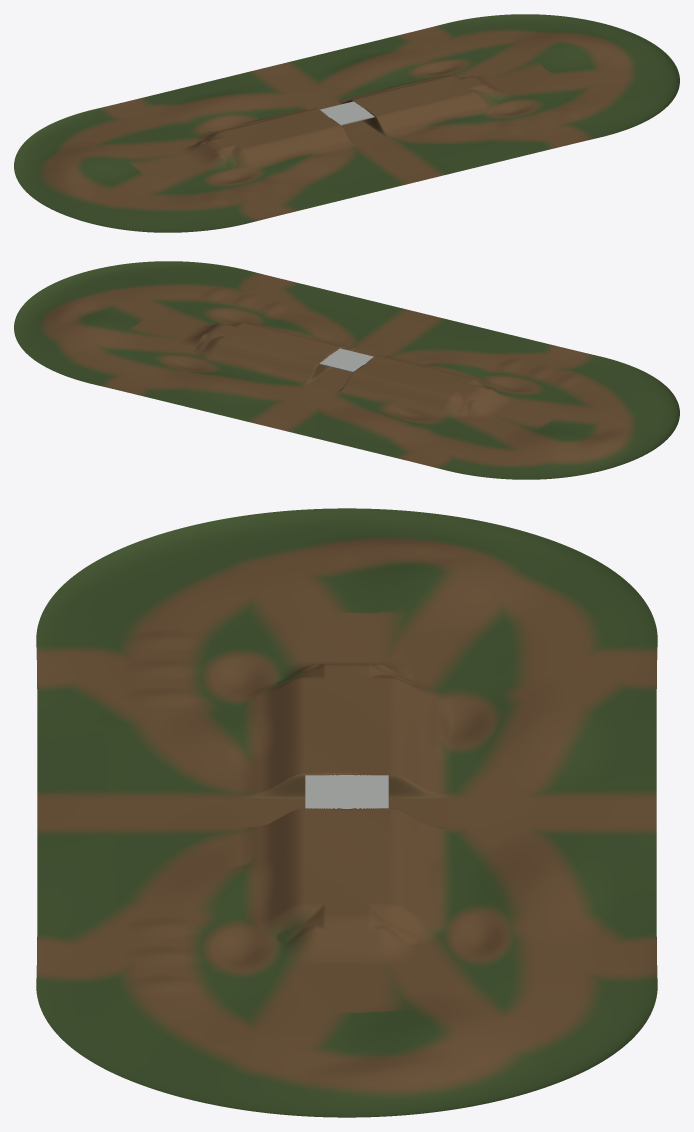
Rendered from infield_terrain.glb.
3 views of the same model, one above another, from view 1: azimuth 30°, elevation 25°; view 2: azimuth 150°, elevation 25°; view 3: azimuth 270°, elevation 25° (orthographic). The views are drawn at different scales.
Visible parts, largest first — view 1: InfieldTerrain-col, TunnelRoof-col; view 2: InfieldTerrain-col, TunnelRoof-col; view 3: InfieldTerrain-col, TunnelRoof-col.
Boxes of the visible parts, x1,y1,x2,y2 form: InfieldTerrain-col: [14, 14, 679, 232]; TunnelRoof-col: [320, 101, 374, 125]; InfieldTerrain-col: [14, 261, 679, 479]; TunnelRoof-col: [319, 348, 373, 372]; InfieldTerrain-col: [36, 508, 657, 1117]; TunnelRoof-col: [305, 775, 388, 808].
Bounding box in the file's own units: 381 × 8.18 × 164.
